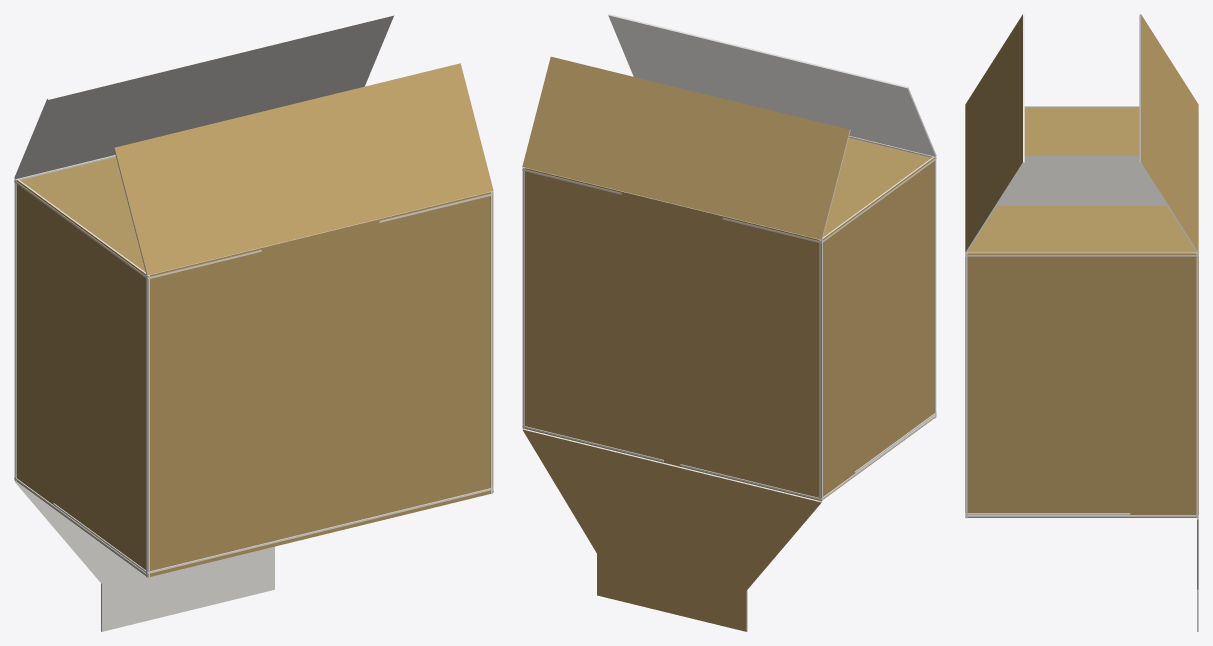
3 views of the same model, side by side, from view 1: azimuth 30°, elevation 25°; view 2: azimuth 150°, elevation 25°; view 3: azimuth 270°, elevation 25° (orthographic). The views are drawn at different scales.
Parts seen in each view (by area): view 1: Packive_Box_fefco0216; view 2: Packive_Box_fefco0216; view 3: Packive_Box_fefco0216.
Part boxes in pixels (x1=…): Packive_Box_fefco0216: x1=14, y1=14, x2=493, y2=631; Packive_Box_fefco0216: x1=522, y1=14, x2=936, y2=631; Packive_Box_fefco0216: x1=965, y1=14, x2=1198, y2=631.
Size of the model in its own units: 0.3 by 0.4787 by 0.2.
26 materials, 13 textured.
